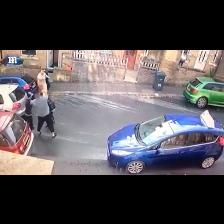person: (31, 93, 56, 137), (37, 70, 50, 96), (25, 94, 34, 130), (48, 98, 55, 123)
